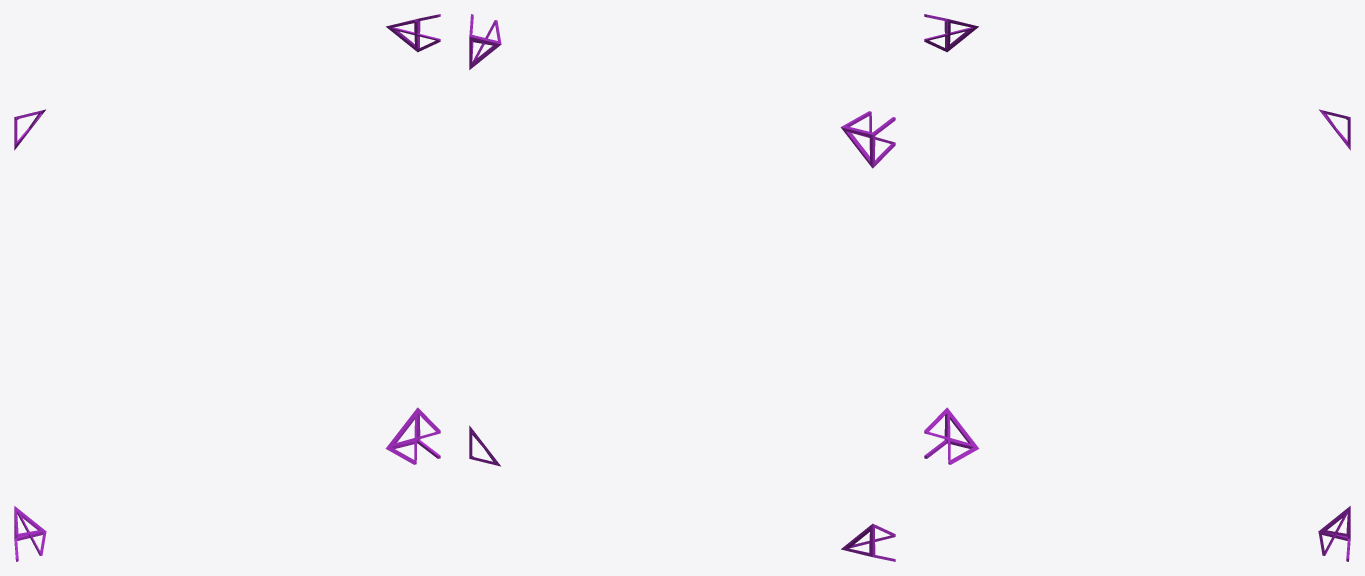
The model's file is tower_01.glb.
3 views of the same model, side by side, from view 1: azimuth 30°, elevation 25°; view 2: azimuth 150°, elevation 25°; view 3: azimuth 330°, elevation 25° (orthographic).
Parts seen in each view (by area): view 1: H1b; view 2: H1b; view 3: H1b.
Part boxes in pixels (box(x1,y1,x2,y2)): H1b: box(14, 14, 440, 561); H1b: box(469, 14, 895, 561); H1b: box(924, 14, 1350, 561).
Size of the model in its own units: 8 by 8 by 0.4.
